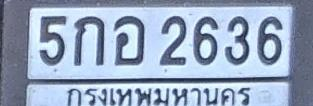2: (160, 14, 186, 64)
3: (225, 15, 249, 64)
5: (40, 14, 66, 64)
6: (257, 16, 282, 64), (193, 16, 218, 64)
A01: (73, 15, 104, 65)
A43: (114, 15, 144, 64)
BKK: (59, 83, 259, 106)
